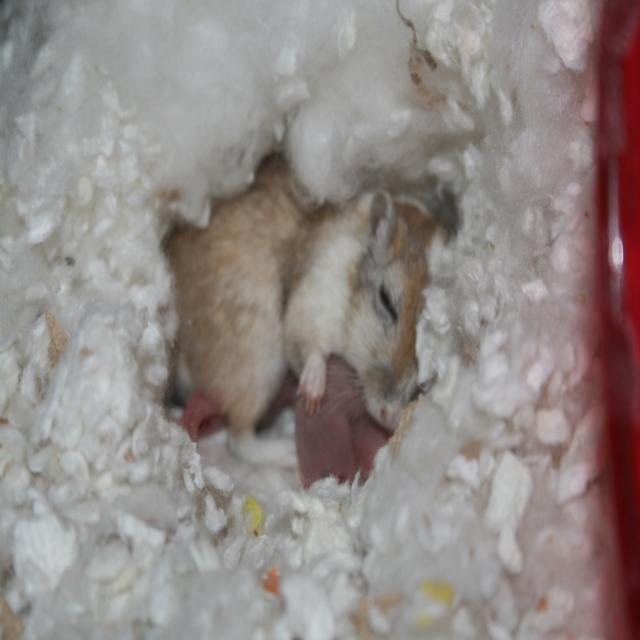rat: (164, 157, 434, 475)
